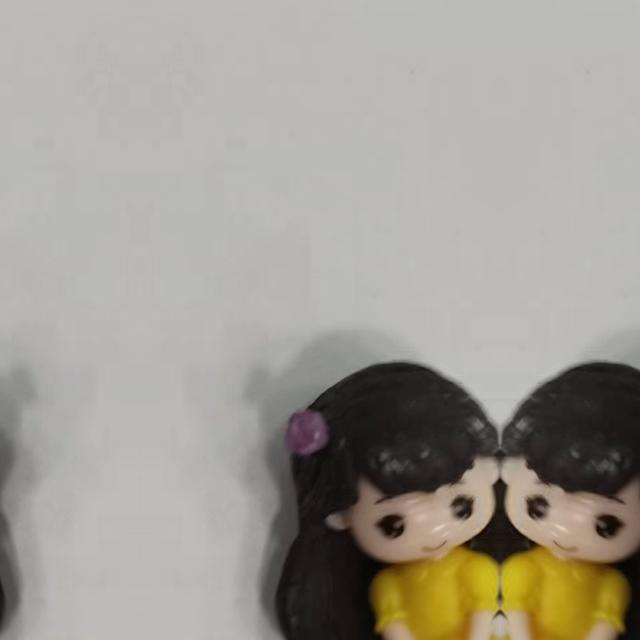woman head: (274, 366, 492, 558), (508, 365, 640, 558), (0, 365, 6, 558)
